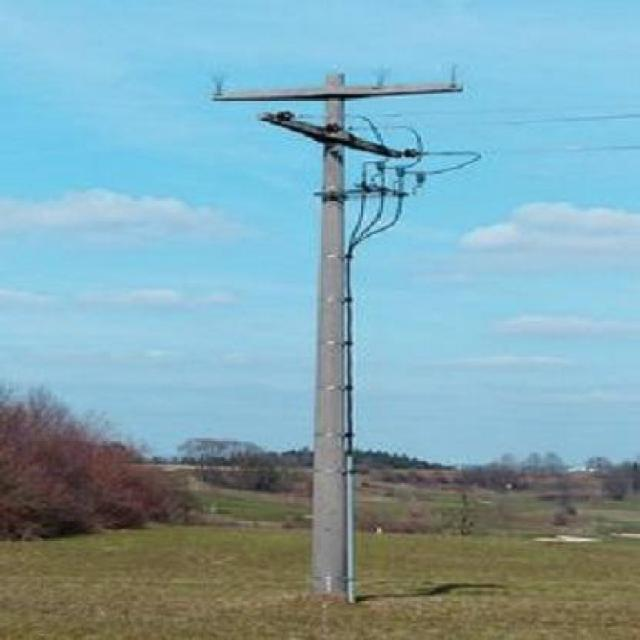pole: (207, 63, 476, 588)
